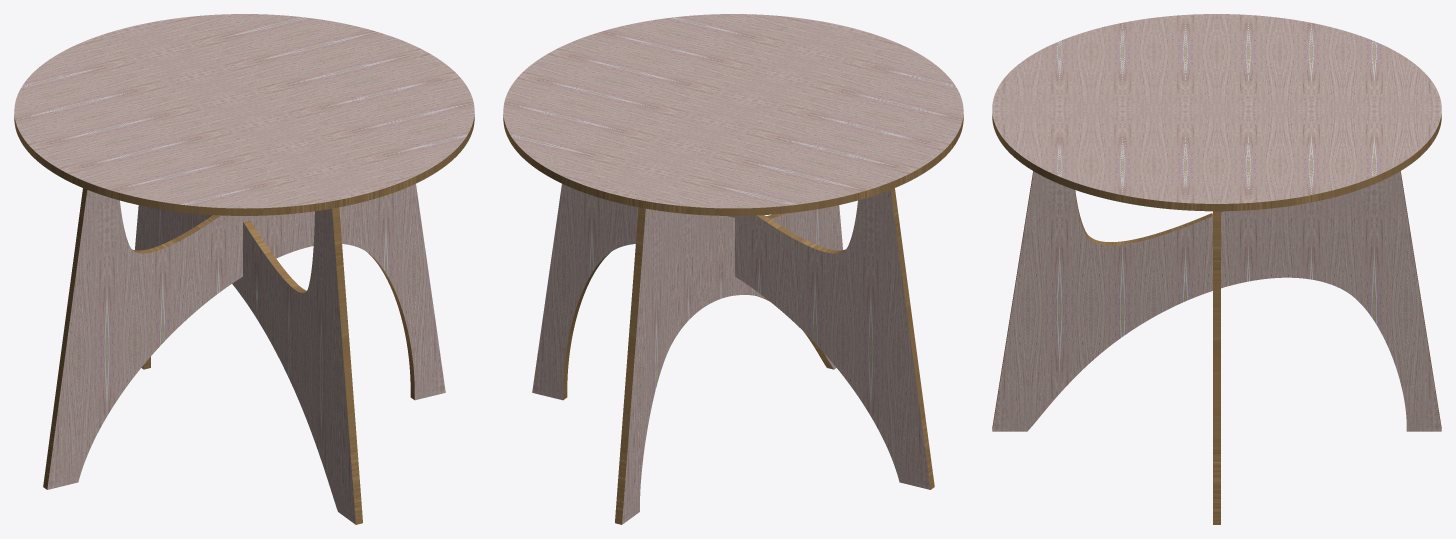
File: NODO_COMEDOR_CRUZ_PARAISO_V1.glb
3 renders of one model, left to right at view 1: azimuth 30°, elevation 25°; view 2: azimuth 150°, elevation 25°; view 3: azimuth 270°, elevation 25°, orthographic. The views are drawn at different scales.
Parts seen in each view (by area): view 1: Tapa, Lateral_2, Lateral_1; view 2: Tapa, Lateral_2, Lateral_1; view 3: Tapa, Lateral_1, Lateral_2.
Part boxes in pixels (left/top/right/bottom): Tapa: left=14, top=14, right=474, bottom=215; Lateral_2: left=43, top=184, right=445, bottom=489; Lateral_1: left=135, top=205, right=362, bottom=524; Tapa: left=503, top=14, right=963, bottom=215; Lateral_2: left=532, top=183, right=934, bottom=489; Lateral_1: left=615, top=205, right=842, bottom=524; Tapa: left=992, top=14, right=1441, bottom=211; Lateral_1: left=992, top=171, right=1441, bottom=431; Lateral_2: left=1213, top=211, right=1220, bottom=524.
Bounding box in the file's own units: 1 × 0.788 × 1.
2 materials, 2 textured.
